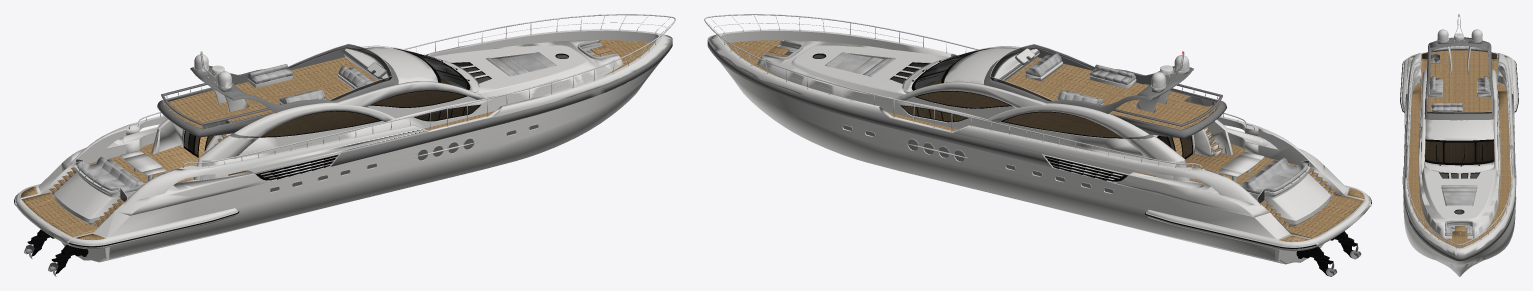
File: Large.glb
3 views of the same model, side by side, from view 1: azimuth 30°, elevation 25°; view 2: azimuth 150°, elevation 25°; view 3: azimuth 270°, elevation 25° (orthographic). The views are drawn at different scales.
Parts seen in each view (by area): view 1: SM_Superyacht_110m, SM_Superyacht_Glass; view 2: SM_Superyacht_110m, SM_Superyacht_Glass; view 3: SM_Superyacht_110m, SM_Superyacht_Glass, SM_platform_door.
Part boxes in pixels (x1,y1,x2,y2): SM_Superyacht_110m: (14, 14, 675, 273); SM_Superyacht_Glass: (184, 44, 567, 191); SM_Superyacht_110m: (704, 14, 1371, 275); SM_Superyacht_Glass: (813, 44, 1192, 193); SM_Superyacht_110m: (1400, 14, 1518, 276); SM_Superyacht_Glass: (1421, 105, 1497, 213); SM_platform_door: (1422, 52, 1497, 59).
Size of the model in its own units: 120 by 31.86 by 26.38.
Materials: 12 (2 with a texture image).
